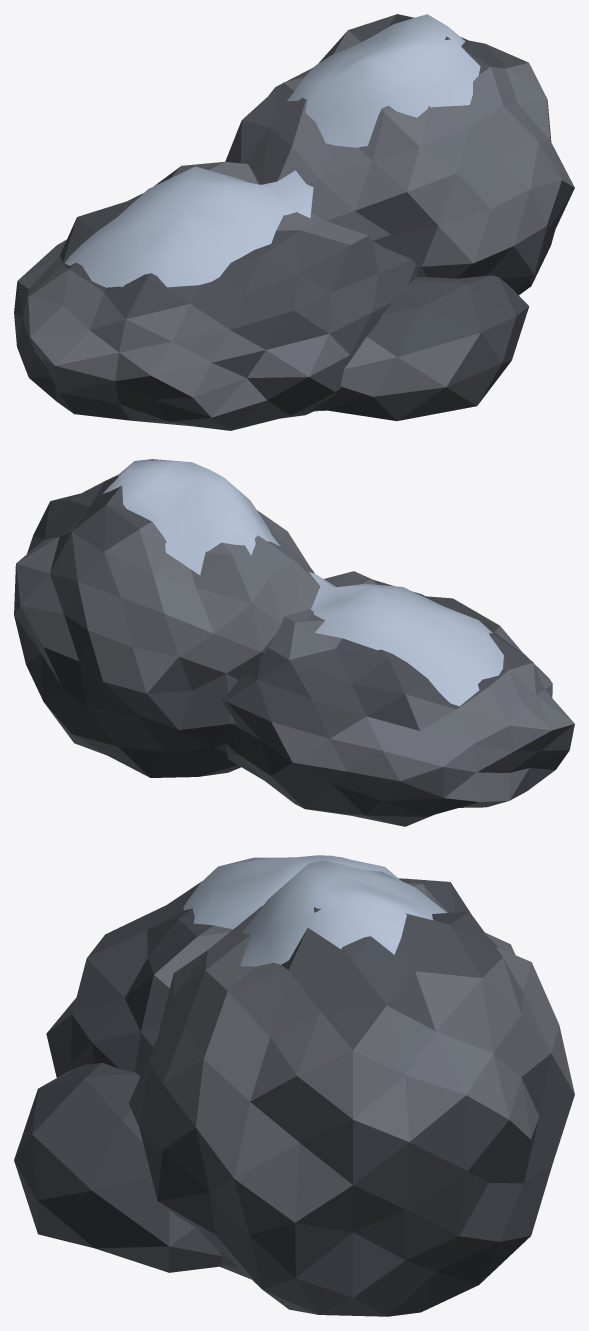
The model's file is crest_rock_b.glb.
The picture shows the model from 3 angles, top to bottom: view 1: azimuth 30°, elevation 25°; view 2: azimuth 150°, elevation 25°; view 3: azimuth 270°, elevation 25°; orthographic projection. The views are drawn at different scales.
Parts seen in each view (by area): view 1: Rock; view 2: Rock; view 3: Rock.
Boxes of the visible parts, box(x1,y1,x2,y2) form: Rock: box(14, 14, 574, 430); Rock: box(14, 459, 574, 826); Rock: box(14, 855, 574, 1316).
Bounding box in the file's own units: 3.6 × 1.83 × 2.4.
